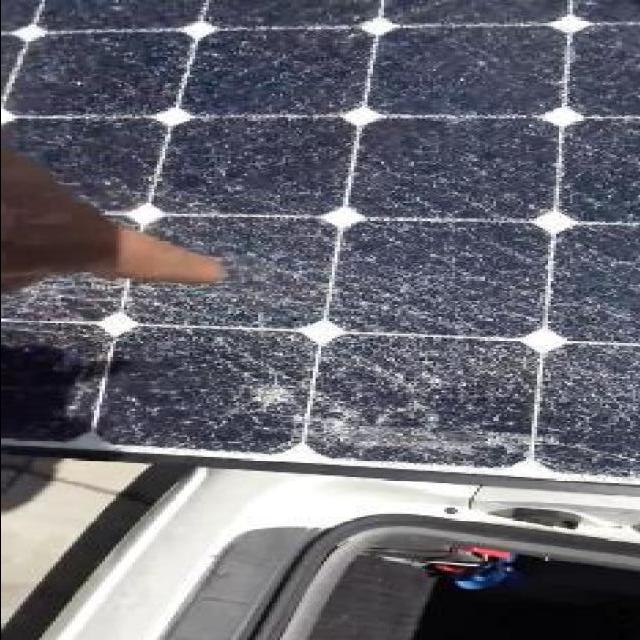cracked: (0, 1, 638, 469)
